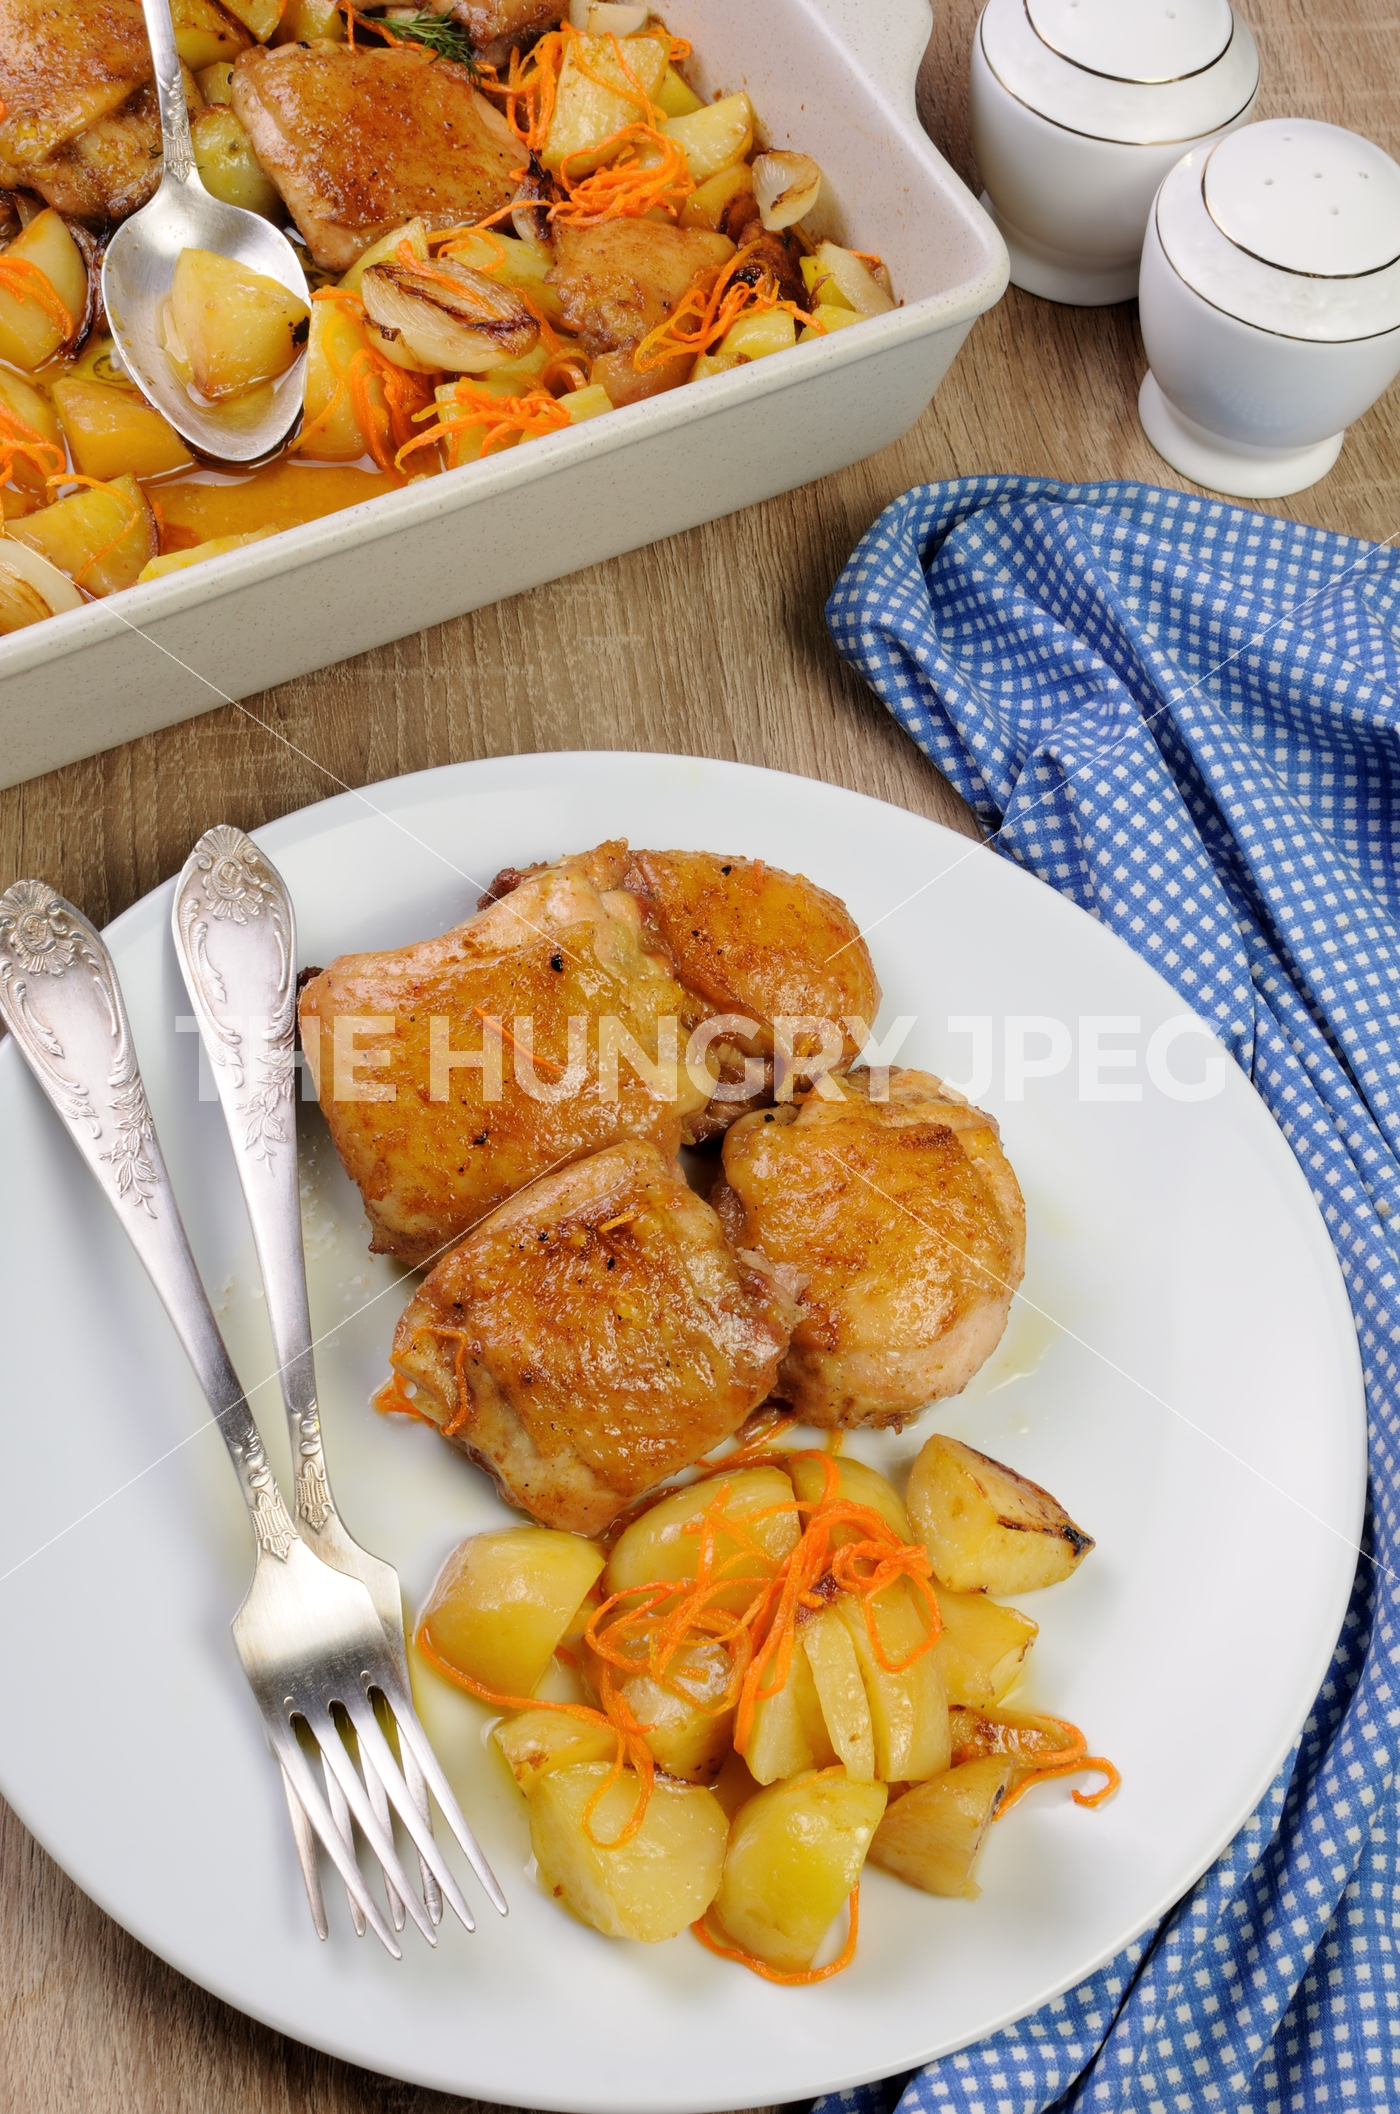boiled potatoes: (450, 1511, 1064, 1941)
